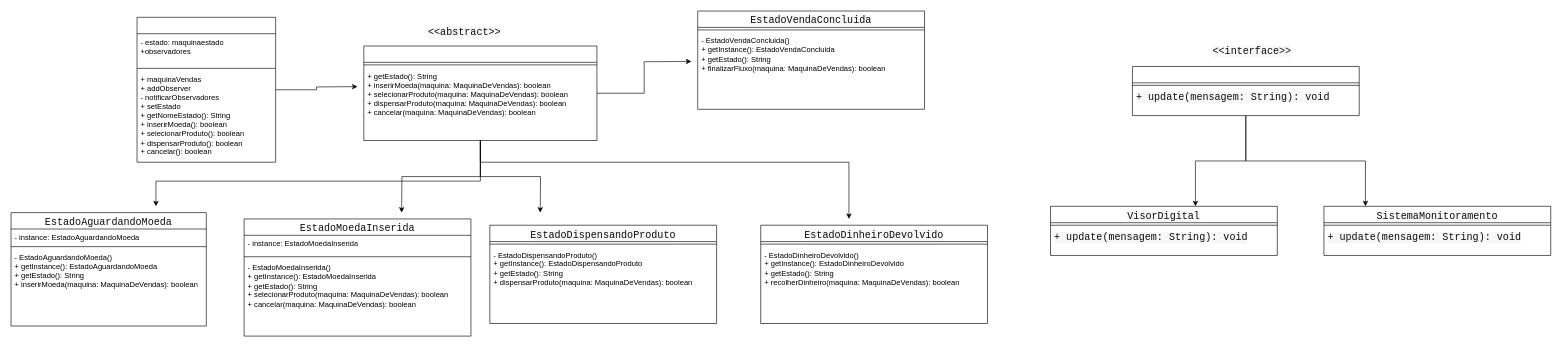
Some shapes in this 1562 by 349 pixel diagram are drawn without their labels. Here are the shapes that lost their labels. From the top down, the box of each, then its label:
(136, 17, 276, 162): MaquinaDeVendas
(363, 45, 597, 140): MaquinaEstado
(1132, 66, 1359, 116): Observer
